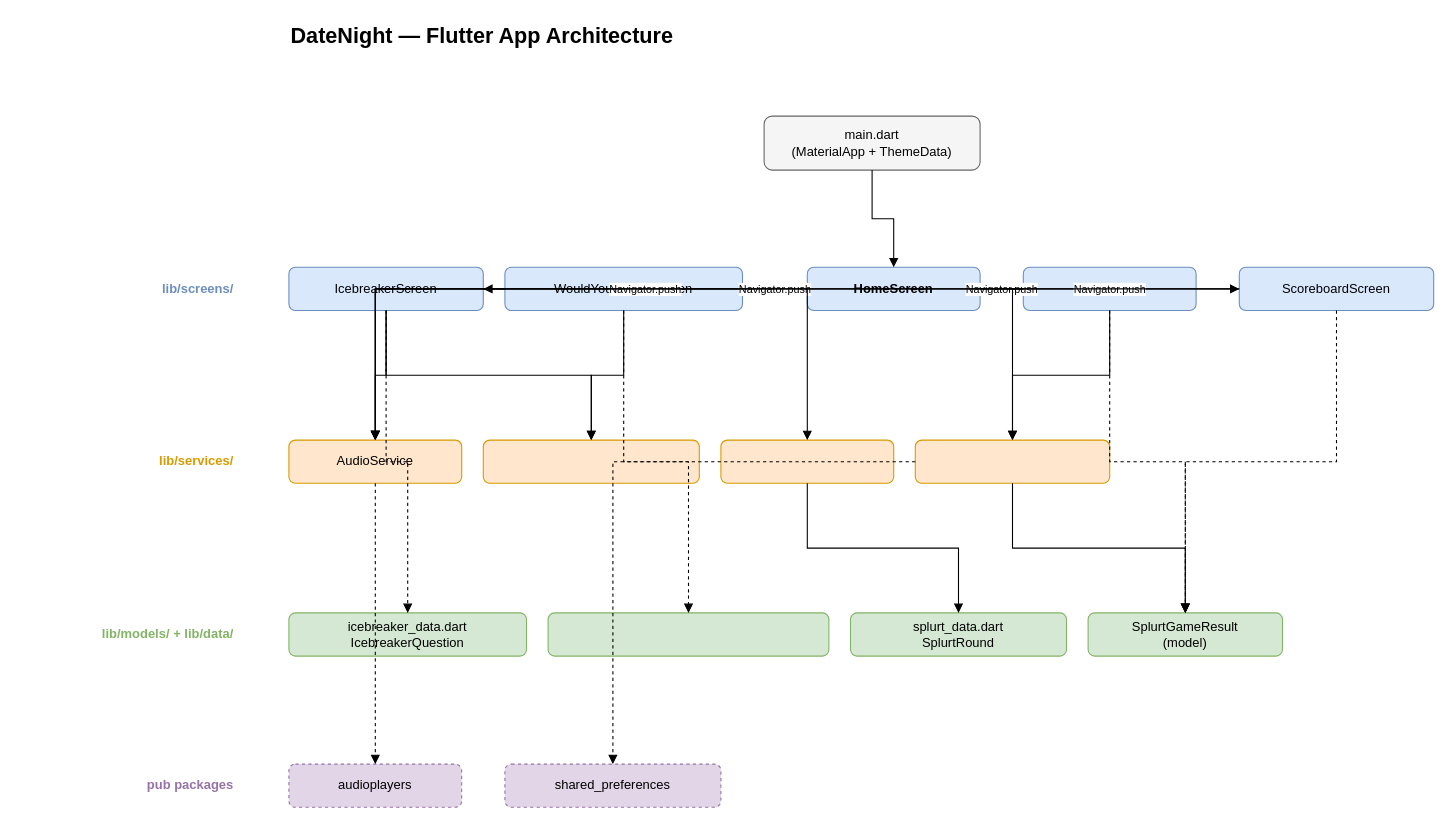
Image size: 1453x826. Some labels were removed from this diagram. Each missing label, with the centre of its shape:
QuestionQueueService: the point at 590,461
ScoreboardService: the point at 1012,461
SplurtScreen: the point at 1109,288
SplurtService: the point at 807,461
would_you_rather_data.dart WouldYouRatherQuestion: the point at 688,634
